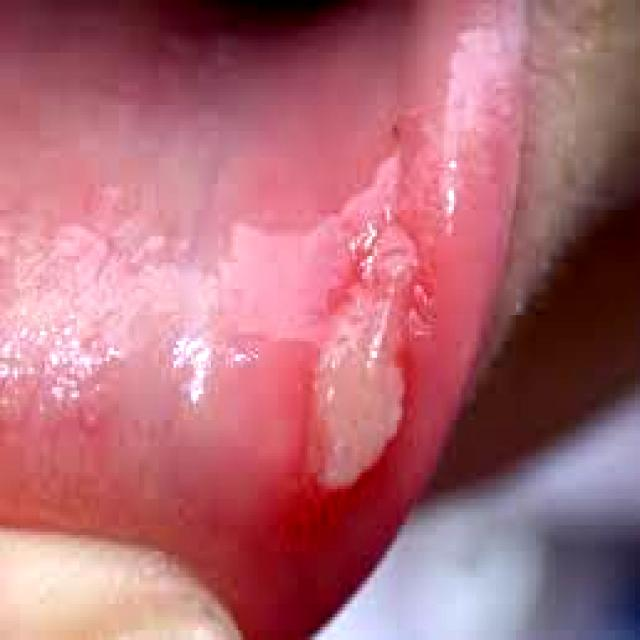ulcer: (308, 299, 402, 486)
